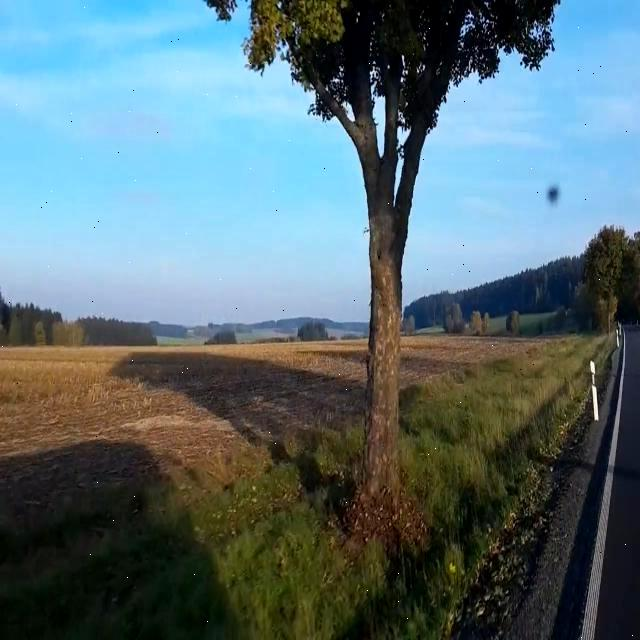lane: (580, 330, 626, 639)
road: (583, 326, 640, 639)
